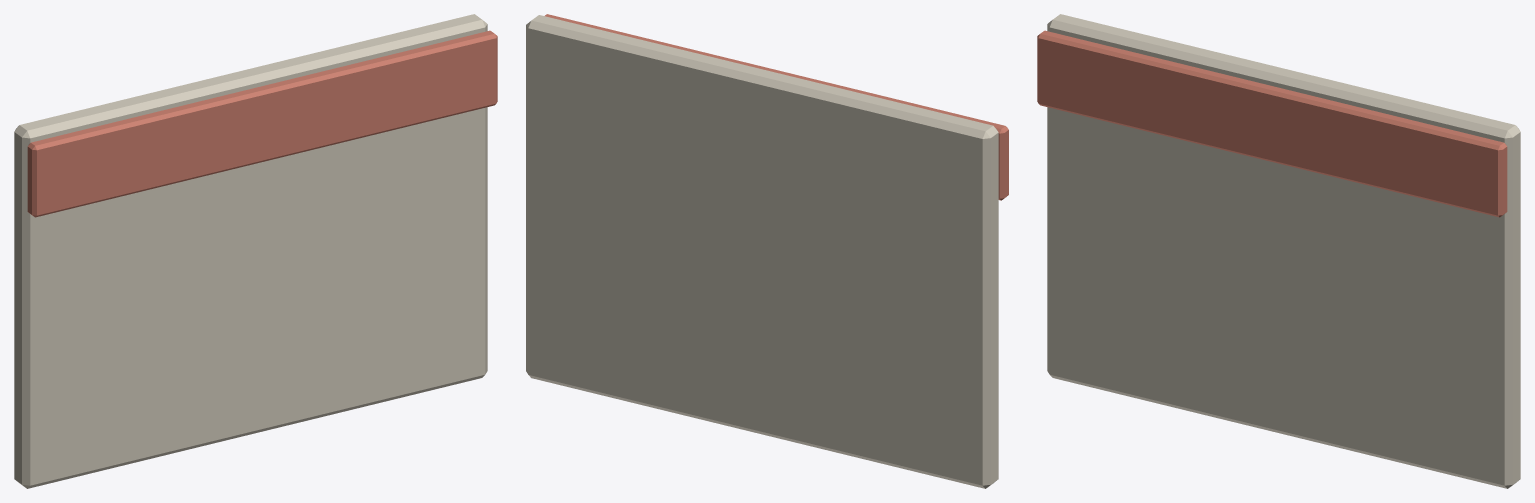
Rendered from calendar.glb.
3 renders of one model, left to right at view 1: azimuth 30°, elevation 25°; view 2: azimuth 150°, elevation 25°; view 3: azimuth 330°, elevation 25°, orthographic.
Visible parts, largest first — view 1: calendar; view 2: calendar; view 3: calendar.
Boxes of the visible parts, <box> form: calendar: <box>14,14,497,488</box>; calendar: <box>526,14,1008,488</box>; calendar: <box>1037,14,1520,488</box>.
Size of the model in its own units: 0.306 by 0.225 by 0.0259.
